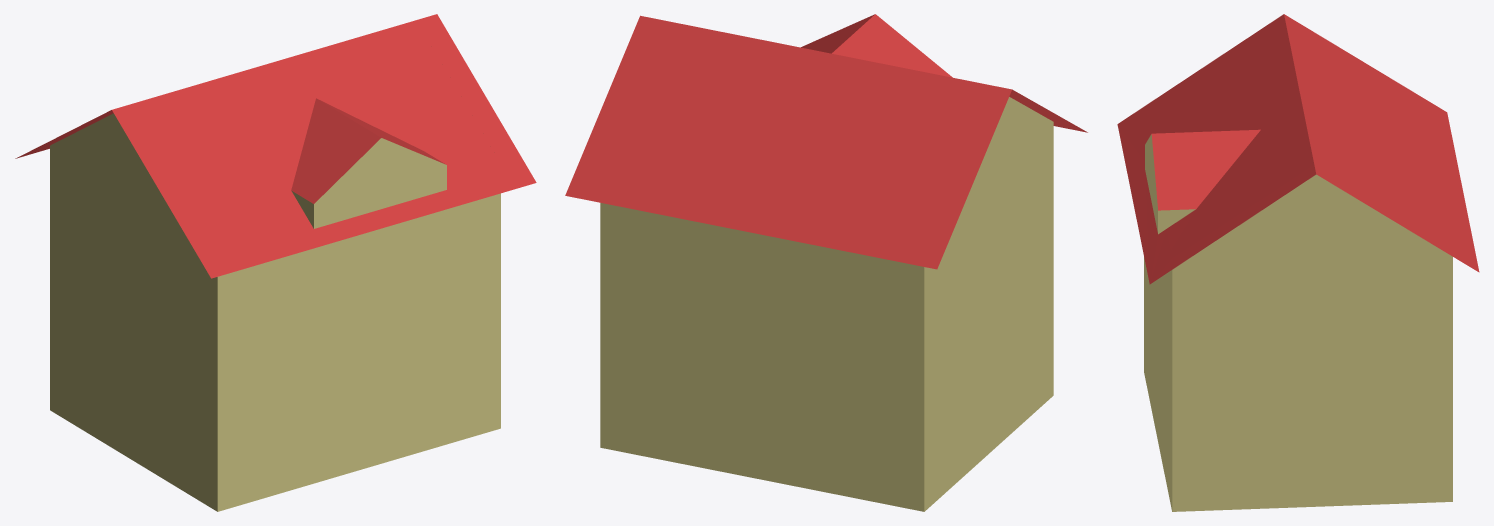
3 renders of one model, left to right at view 1: azimuth 30°, elevation 25°; view 2: azimuth 150°, elevation 25°; view 3: azimuth 270°, elevation 25°, orthographic. The views are drawn at different scales.
Bounding box in the file's own units: 12.42 × 11.03 × 11.52.
